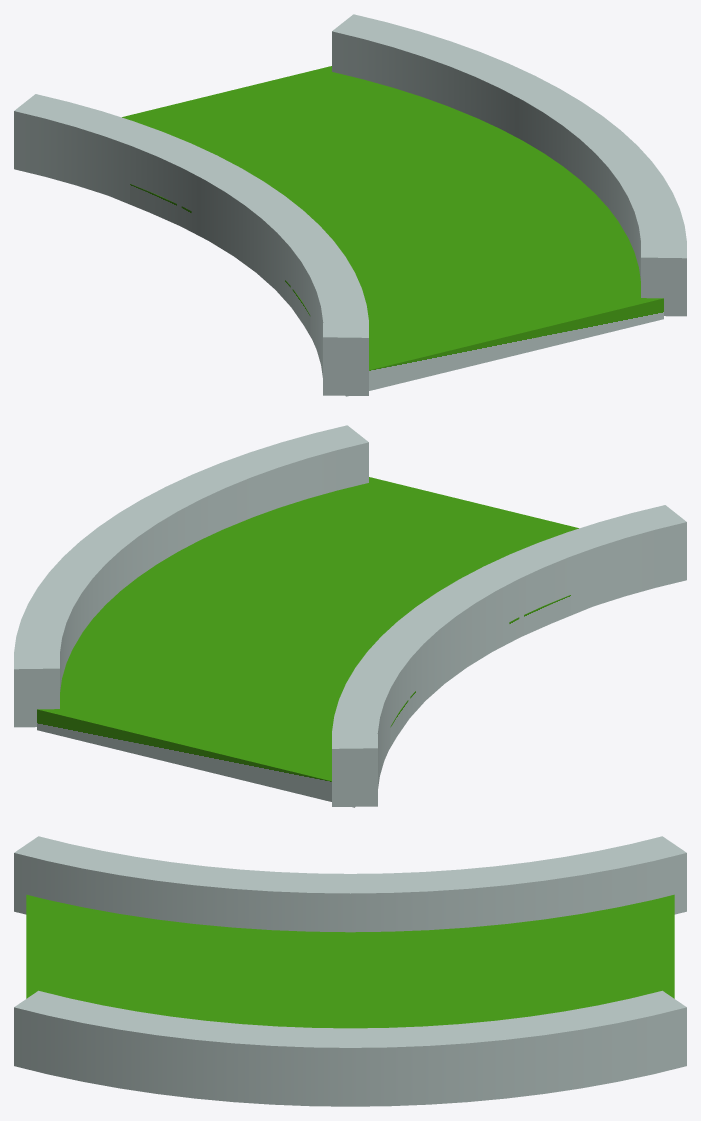
File: Curva B.fbx
3 renders of one model, top to bottom at view 1: azimuth 30°, elevation 25°; view 2: azimuth 150°, elevation 25°; view 3: azimuth 270°, elevation 25°, orthographic.
Visible parts, largest first — view 1: Curva B; view 2: Curva B; view 3: Curva B.
Boxes of the visible parts, left/top/right/bottom form: Curva B: left=14, top=14, right=686, bottom=396; Curva B: left=14, top=425, right=686, bottom=807; Curva B: left=14, top=836, right=686, bottom=1106.
Size of the model in its own units: 109 by 14.74 by 145.
Materials: 1 (1 with a texture image).
